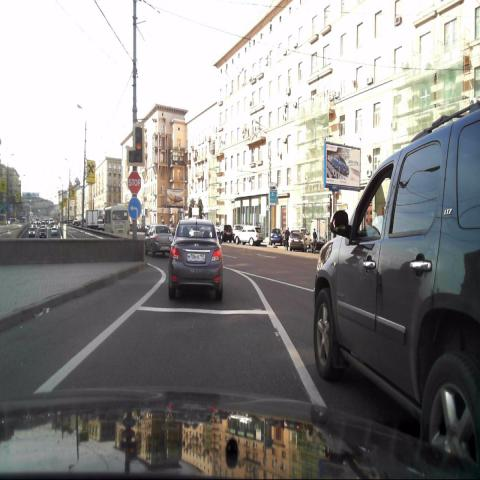4_1_3: (128, 195, 143, 220)
